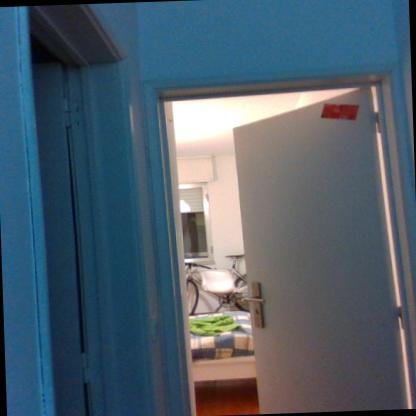semi: (152, 69, 407, 416)
